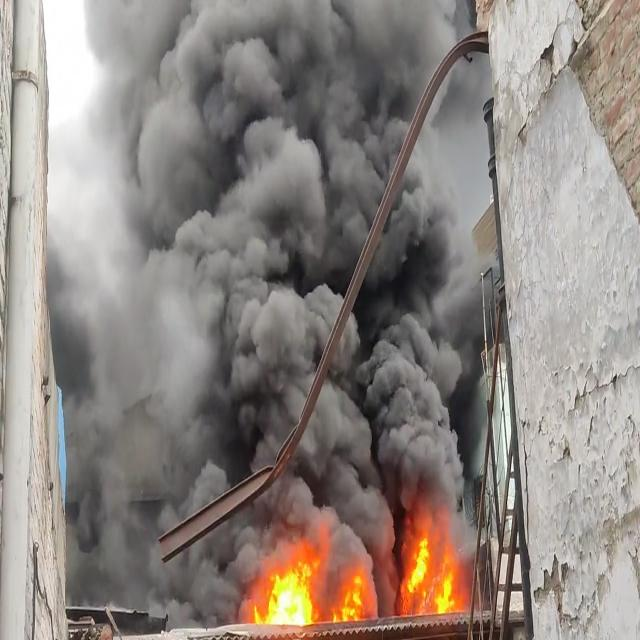Fire: (399, 523, 464, 614), (254, 544, 320, 626), (339, 556, 368, 621)
Smoke: (47, 0, 496, 623)
